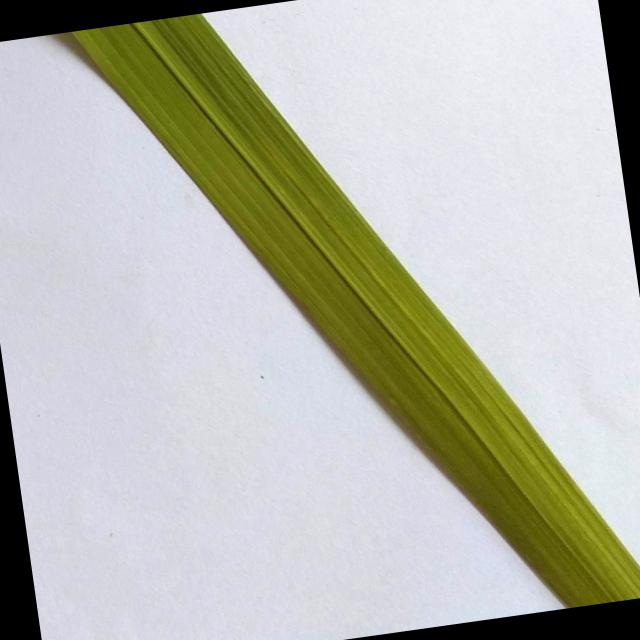Rice_Healthy: (73, 14, 640, 608)
